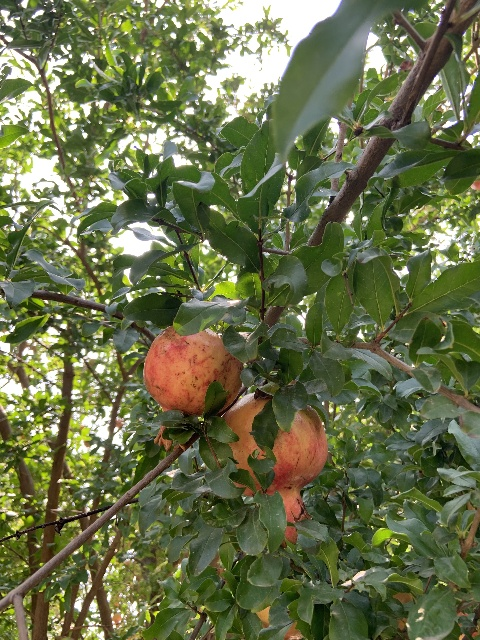ripe: (221, 391, 328, 547), (143, 324, 242, 451)
